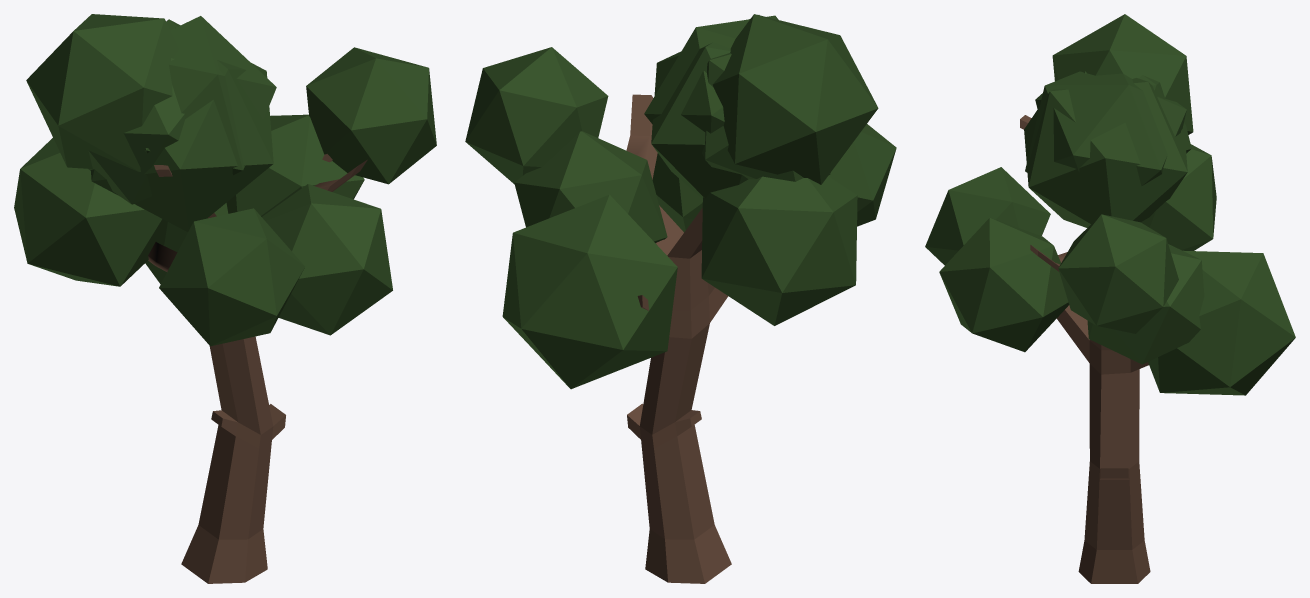
File: n_m_tree03.fbx
3 views of the same model, side by side, from view 1: azimuth 30°, elevation 25°; view 2: azimuth 150°, elevation 25°; view 3: azimuth 270°, elevation 25° (orthographic). The views are drawn at different scales.
Parts seen in each view (by area): view 1: Cube.005, Cube.005|Icosphere.001|Dupli|1, Cube.005|Icosphere.001|Dupli|8, Cube.005|Icosphere.001|Dupli|6, Cube.005|Icosphere.001|Dupli|, Cube.005|Icosphere.001|Dupli|9, Cube.005|Icosphere.001|Dupli|4, Cube.005|Icosphere.001|Dupli|3, Cube.005|Icosphere.001|Dupli|7, Cube.005|Icosphere.001|Dupli|2, Cube.005|Icosphere.001|Dupli|5; view 2: Cube.005|Icosphere.001|Dupli|5, Cube.005, Cube.005|Icosphere.001|Dupli|1, Cube.005|Icosphere.001|Dupli|8, Cube.005|Icosphere.001|Dupli|, Cube.005|Icosphere.001|Dupli|7, Cube.005|Icosphere.001|Dupli|4, Cube.005|Icosphere.001|Dupli|3, Cube.005|Icosphere.001|Dupli|6, Cube.005|Icosphere.001|Dupli|2, Cube.005|Icosphere.001|Dupli|9; view 3: Cube.005, Cube.005|Icosphere.001|Dupli|5, Cube.005|Icosphere.001|Dupli|4, Cube.005|Icosphere.001|Dupli|9, Cube.005|Icosphere.001|Dupli|, Cube.005|Icosphere.001|Dupli|3, Cube.005|Icosphere.001|Dupli|1, Cube.005|Icosphere.001|Dupli|6, Cube.005|Icosphere.001|Dupli|7, Cube.005|Icosphere.001|Dupli|8.
Boxes of the visible parts, bbox=[...] form: Cube.005: bbox=[148, 154, 367, 583]; Cube.005|Icosphere.001|Dupli|1: bbox=[26, 14, 178, 171]; Cube.005|Icosphere.001|Dupli|8: bbox=[14, 138, 167, 286]; Cube.005|Icosphere.001|Dupli|6: bbox=[159, 208, 304, 346]; Cube.005|Icosphere.001|Dupli|: bbox=[306, 47, 436, 184]; Cube.005|Icosphere.001|Dupli|9: bbox=[262, 184, 392, 335]; Cube.005|Icosphere.001|Dupli|4: bbox=[90, 19, 273, 231]; Cube.005|Icosphere.001|Dupli|3: bbox=[144, 16, 276, 175]; Cube.005|Icosphere.001|Dupli|7: bbox=[226, 114, 364, 216]; Cube.005|Icosphere.001|Dupli|2: bbox=[88, 57, 185, 204]; Cube.005|Icosphere.001|Dupli|5: bbox=[145, 203, 228, 284]; Cube.005|Icosphere.001|Dupli|5: bbox=[502, 194, 677, 389]; Cube.005: bbox=[626, 94, 731, 583]; Cube.005|Icosphere.001|Dupli|1: bbox=[712, 14, 878, 184]; Cube.005|Icosphere.001|Dupli|8: bbox=[701, 176, 857, 325]; Cube.005|Icosphere.001|Dupli|: bbox=[465, 47, 608, 184]; Cube.005|Icosphere.001|Dupli|7: bbox=[514, 131, 667, 242]; Cube.005|Icosphere.001|Dupli|4: bbox=[651, 15, 830, 199]; Cube.005|Icosphere.001|Dupli|3: bbox=[644, 15, 778, 133]; Cube.005|Icosphere.001|Dupli|6: bbox=[828, 124, 896, 226]; Cube.005|Icosphere.001|Dupli|2: bbox=[702, 53, 803, 181]; Cube.005|Icosphere.001|Dupli|9: bbox=[652, 153, 702, 232]; Cube.005: bbox=[1020, 115, 1150, 583]; Cube.005|Icosphere.001|Dupli|5: bbox=[1148, 250, 1295, 395]; Cube.005|Icosphere.001|Dupli|4: bbox=[1024, 78, 1187, 227]; Cube.005|Icosphere.001|Dupli|9: bbox=[939, 218, 1068, 352]; Cube.005|Icosphere.001|Dupli|: bbox=[1058, 214, 1178, 333]; Cube.005|Icosphere.001|Dupli|3: bbox=[1025, 71, 1186, 186]; Cube.005|Icosphere.001|Dupli|1: bbox=[1052, 14, 1193, 134]; Cube.005|Icosphere.001|Dupli|6: bbox=[925, 167, 1050, 265]; Cube.005|Icosphere.001|Dupli|7: bbox=[1087, 244, 1204, 364]; Cube.005|Icosphere.001|Dupli|8: bbox=[1141, 144, 1216, 250].
Size of the model in its own units: 612 by 858 by 581.
